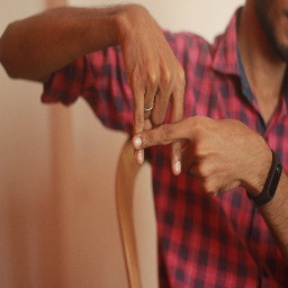H: (113, 70, 217, 184)
